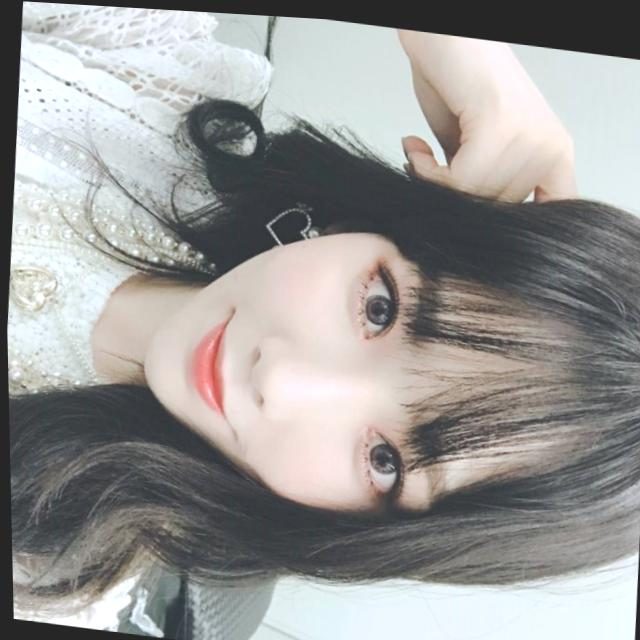face: (120, 159, 628, 582)
